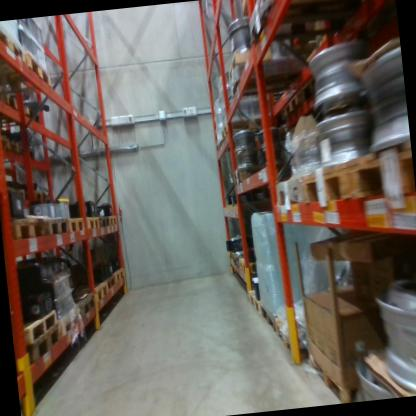pallet: (244, 0, 377, 57), (344, 142, 416, 209), (303, 338, 366, 402), (225, 57, 313, 101), (225, 43, 296, 91), (295, 156, 350, 214), (273, 308, 328, 358), (0, 46, 51, 98), (14, 305, 61, 353), (218, 114, 271, 144), (280, 88, 321, 124), (63, 289, 99, 328), (0, 22, 25, 78), (9, 207, 45, 244), (28, 321, 58, 362), (273, 176, 304, 215), (0, 88, 38, 119), (262, 297, 290, 337), (7, 184, 51, 208), (52, 304, 80, 339), (229, 160, 266, 184), (238, 253, 265, 281), (42, 215, 71, 241), (0, 120, 18, 161), (247, 284, 270, 314), (226, 246, 248, 273), (14, 141, 40, 162), (86, 284, 109, 307), (69, 213, 89, 234), (87, 213, 100, 232), (98, 212, 110, 231), (102, 275, 116, 291), (112, 268, 124, 282), (109, 214, 118, 230)
